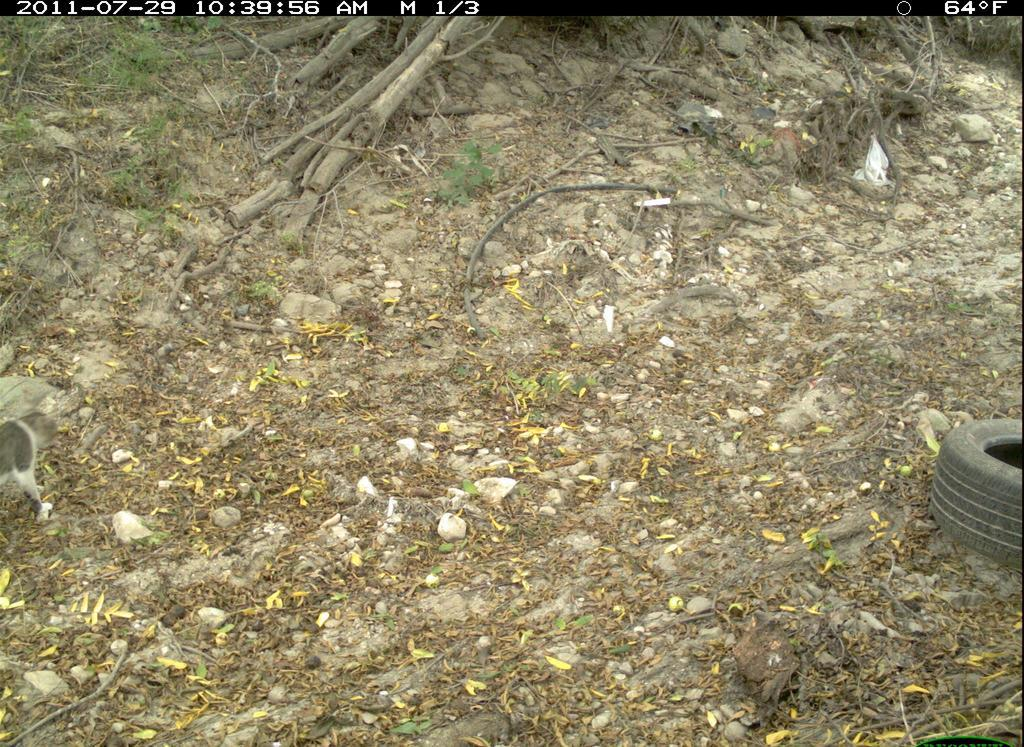cat: (1, 406, 68, 533)
